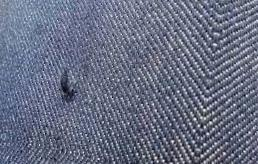knot: (57, 71, 81, 101)
